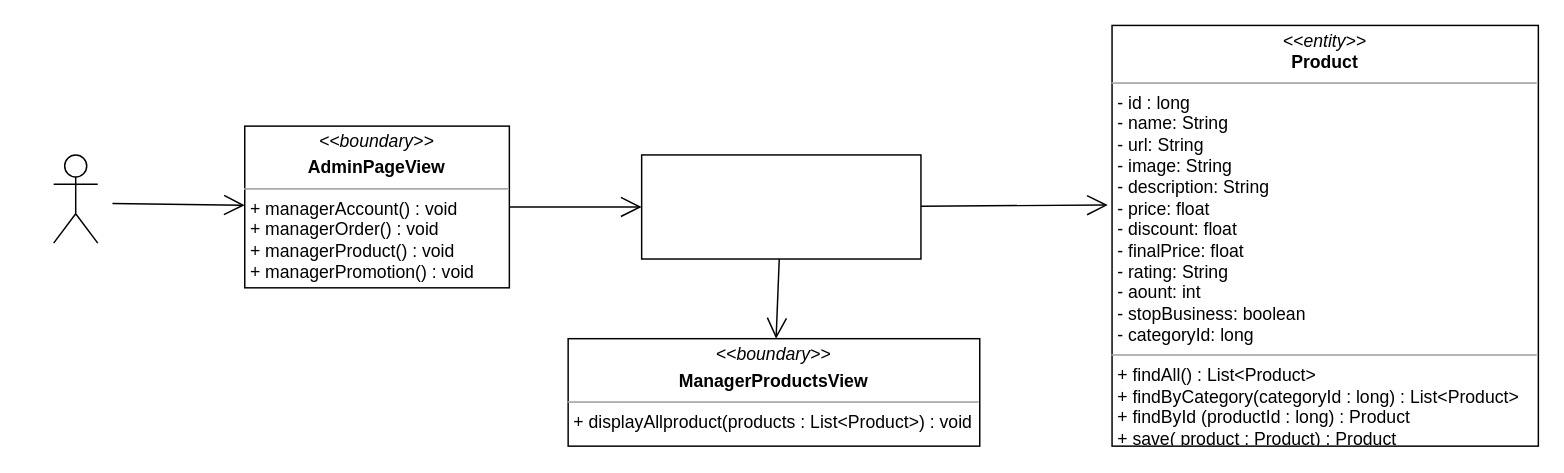
This 1564x473 diagram has some shape labels left out. Each missing label, with the centre of its shape:
"<<controller>> ProductController + getAllProduct(): List<Product>" belongs at (x=780, y=206).
"Quản trị viên" belongs at (x=75, y=198).
